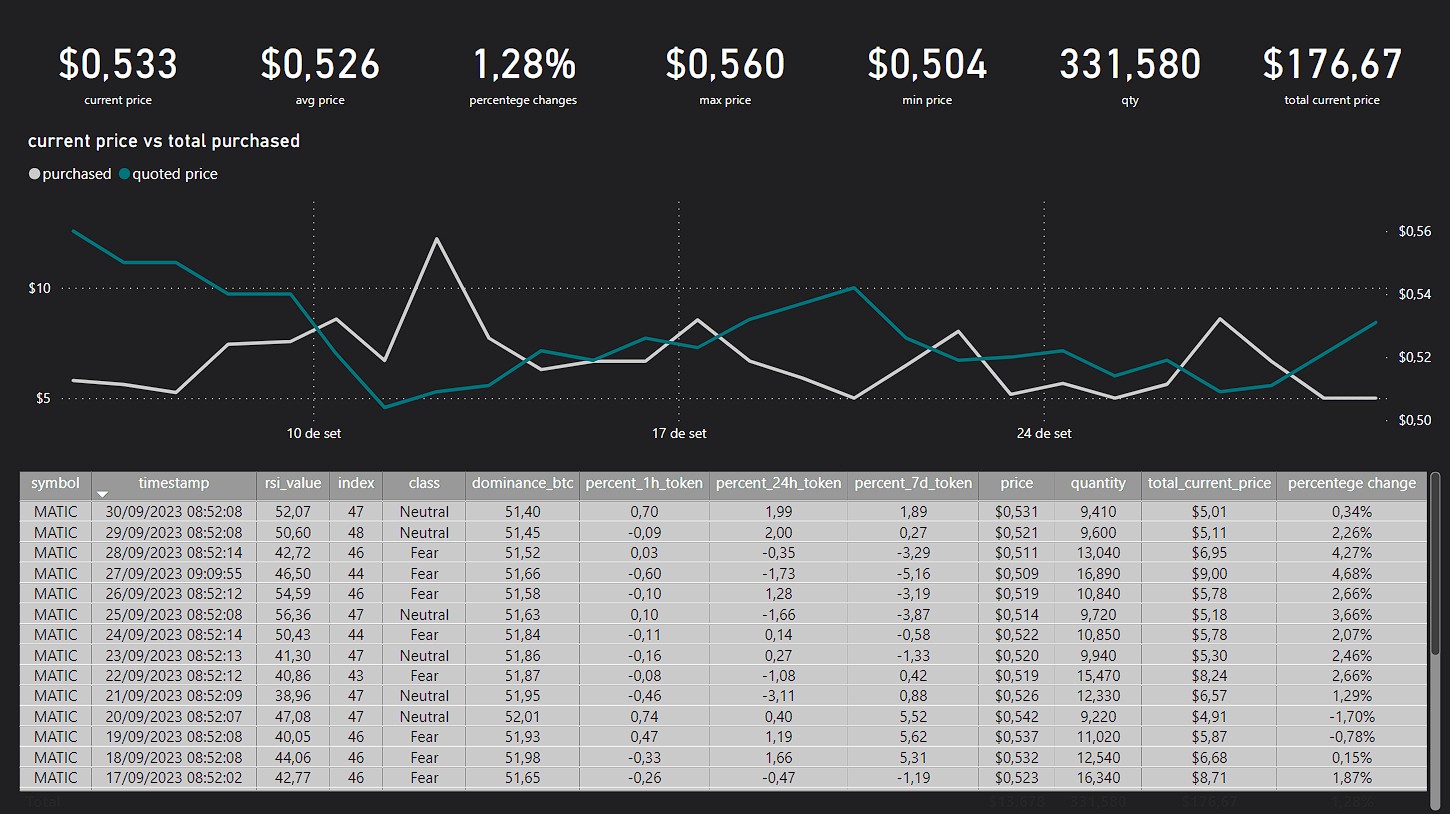

What the dashboard file says about the page in this screenshot:
{"tool":"powerbi","page":{"name":"Polygon","canvas":[1280,720],"ordinal":0},"visuals":[{"type":"card","fields":{"Values":["dca._m_last_index"]},"box":[1010.6,161.6,130,86],"z":0},{"type":"tableEx","fields":{"Values":["dca.symbol","dca.timestamp","Sum(dca.rsi_value)","Sum(dca.index_current)","dca.index_class","Sum(dca.dominance_btc_global)","Sum(dca.percent_1h_token)","Sum(dca.percent_24h_token)","Sum(dca.percent_7d_token)","Sum(dca.price)","Sum(dca.quantity)","dca.total_current_price"]},"box":[2.6,526,1274,187.9],"z":1000},{"type":"gauge","title":"changes percentege","fields":{"Y":["dca.change_percentege"],"MinValue":["dca.min"],"MaxValue":["dca.max"]},"box":[8.8,71.1,325.8,176.5],"z":2000},{"type":"card","fields":{"Values":["Avg(dca.current_price)"]},"box":[338.9,71.1,130,86],"z":3000},{"type":"card","fields":{"Values":["Avg(dca.price)"]},"box":[473.3,71.1,130,86],"z":4000},{"type":"card","fields":{"Values":["Max(dca.price)"]},"box":[742,71.1,130,86],"z":5000},{"type":"card","fields":{"Values":["Min(dca.price)"]},"box":[607.6,71.1,130,86],"z":6000},{"type":"card","fields":{"Values":["Sum(dca.quantity)"]},"box":[338.9,161.6,130,86],"z":7000},{"type":"card","fields":{"Values":["Sum(dca.amount)"]},"box":[473.4,161.6,130,86],"z":8000},{"type":"shape","box":[0,0,1280,66.7],"z":9000},{"type":"lineChart","title":"current price vs total purchased","fields":{"Y":["Sum(dca.amount)"],"Category":["dca.timestamp"],"Y2":["Sum(dca.price)"]},"box":[8.8,252,1265.3,274.8],"z":10000},{"type":"card","fields":{"Values":["Avg(dca.quantity)"]},"box":[876.4,71.1,130,86],"z":11000},{"type":"card","fields":{"Values":["Min(dca.quantity)"]},"box":[1010.8,71.1,130,86],"z":12000},{"type":"card","fields":{"Values":["Max(dca.quantity)"]},"box":[1145.1,71.1,130,86],"z":13000},{"type":"card","fields":{"Values":["dca.total_current_price"]},"box":[607.6,161.6,130,86],"z":14000},{"type":"card","fields":{"Values":["dca.gain_loss"]},"box":[742,161.6,130,86],"z":15000},{"type":"card","fields":{"Values":["dca._m_last_rsi"]},"box":[876.3,161.6,130,86],"z":16000},{"type":"card","fields":{"Values":["dca._m_last_change"]},"box":[1145,161.6,130,86],"z":17000},{"type":"textbox","box":[61.5,7,490,54.4],"z":18000},{"type":"image","box":[8.8,4.4,51.8,58],"z":19000},{"type":"card","fields":{"Values":["dca.text_index"]},"box":[1010.6,213.4,130,26.3],"z":20000},{"type":"card","fields":{"Values":["Min(update.date_now)"]},"box":[1174,45.7,106.2,24.6],"z":21000},{"type":"textbox","box":[1116.9,41.3,71.1,32.5],"z":22000}]}

Visuals, with their boxes in screenshot pixels (x1, y1, x2, y2), scaled from the page's 1280x720 canvas onto the 1450x814 screenshot:
card - dca._m_last_index: <bbox>1145, 183, 1292, 280</bbox>
tableEx - dca.symbol x dca.timestamp: <bbox>3, 595, 1446, 807</bbox>
"changes percentege" gauge: <bbox>10, 80, 379, 280</bbox>
card - Avg(dca.current_price): <bbox>384, 80, 531, 178</bbox>
card - Avg(dca.price): <bbox>536, 80, 683, 178</bbox>
card - Max(dca.price): <bbox>841, 80, 988, 178</bbox>
card - Min(dca.price): <bbox>688, 80, 836, 178</bbox>
card - Sum(dca.quantity): <bbox>384, 183, 531, 280</bbox>
card - Sum(dca.amount): <bbox>536, 183, 684, 280</bbox>
shape: <bbox>0, 0, 1449, 75</bbox>
"current price vs total purchased" lineChart: <bbox>10, 285, 1443, 596</bbox>
card - Avg(dca.quantity): <bbox>993, 80, 1140, 178</bbox>
card - Min(dca.quantity): <bbox>1145, 80, 1292, 178</bbox>
card - Max(dca.quantity): <bbox>1297, 80, 1444, 178</bbox>
card - dca.total_current_price: <bbox>688, 183, 836, 280</bbox>
card - dca.gain_loss: <bbox>841, 183, 988, 280</bbox>
card - dca._m_last_rsi: <bbox>993, 183, 1140, 280</bbox>
card - dca._m_last_change: <bbox>1297, 183, 1444, 280</bbox>
textbox: <bbox>70, 8, 625, 69</bbox>
image: <bbox>10, 5, 69, 71</bbox>
card - dca.text_index: <bbox>1145, 241, 1292, 271</bbox>
card - Min(update.date_now): <bbox>1330, 52, 1449, 79</bbox>
textbox: <bbox>1265, 47, 1346, 83</bbox>
